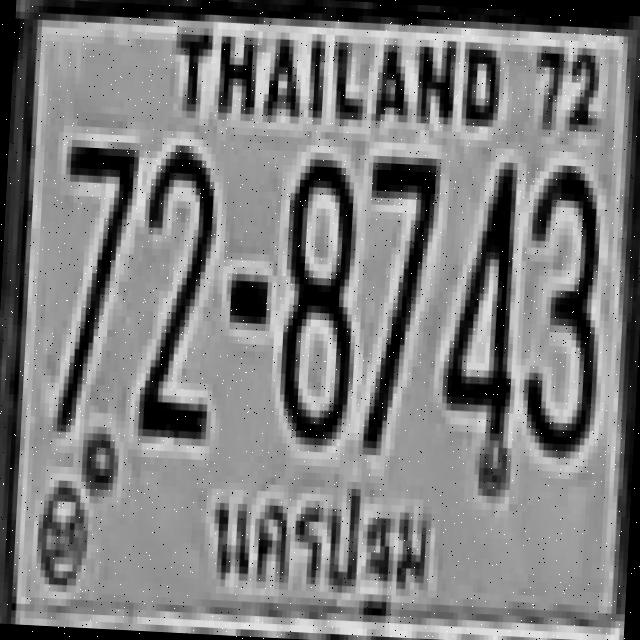2: (132, 140, 218, 436)
3: (516, 160, 604, 448)
4: (437, 156, 520, 452)
7: (354, 148, 437, 450), (52, 136, 136, 431), (359, 145, 437, 357), (58, 136, 136, 341)
8: (274, 152, 360, 440)
NakhonPathom: (194, 467, 447, 632)
